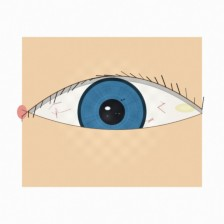pinguecula_lesion: (165, 91, 206, 125)
